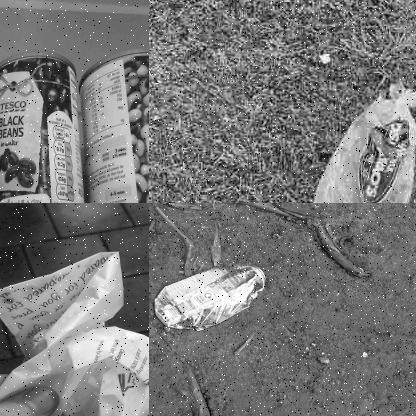metal: (0, 49, 87, 202), (78, 44, 148, 202), (159, 261, 267, 327)
plastic: (0, 246, 148, 415), (307, 83, 415, 202)
